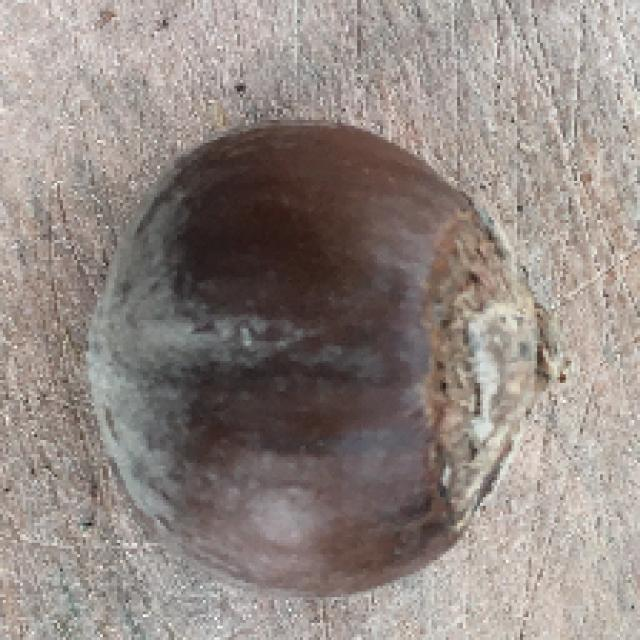damagedHazelnut: (90, 122, 544, 610)
